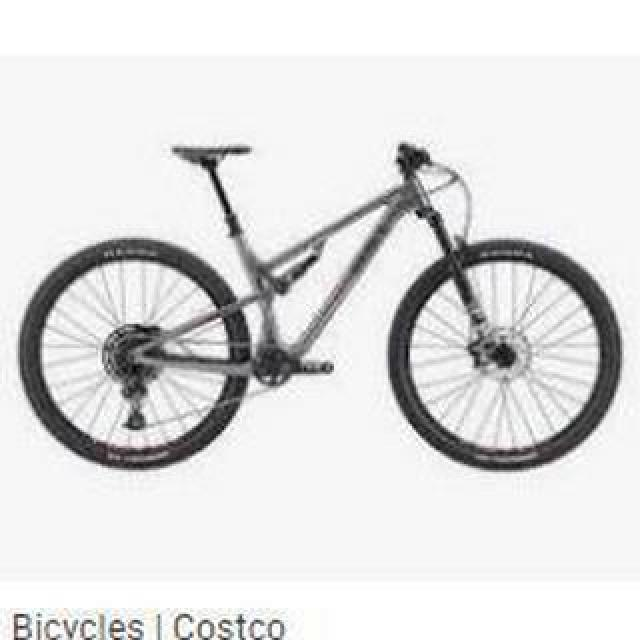Person: (15, 126, 619, 488)
